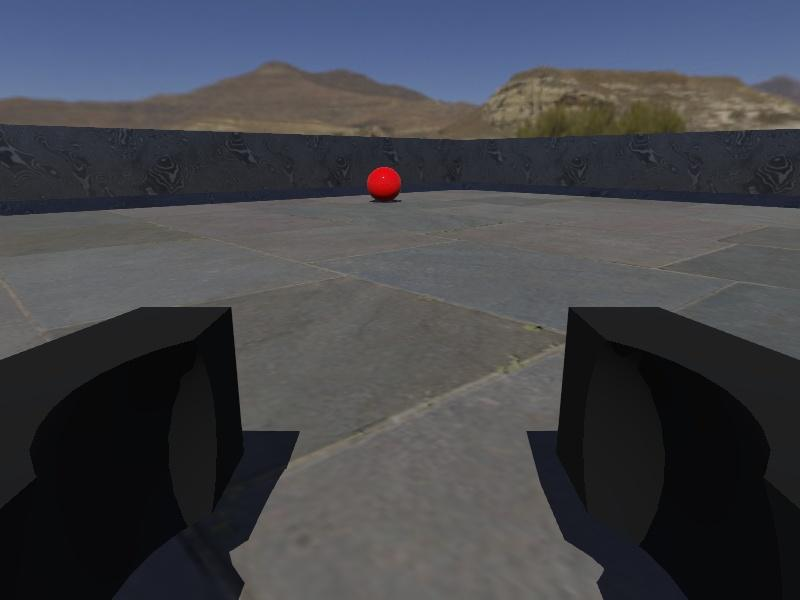red ball: (366, 165, 403, 203)
